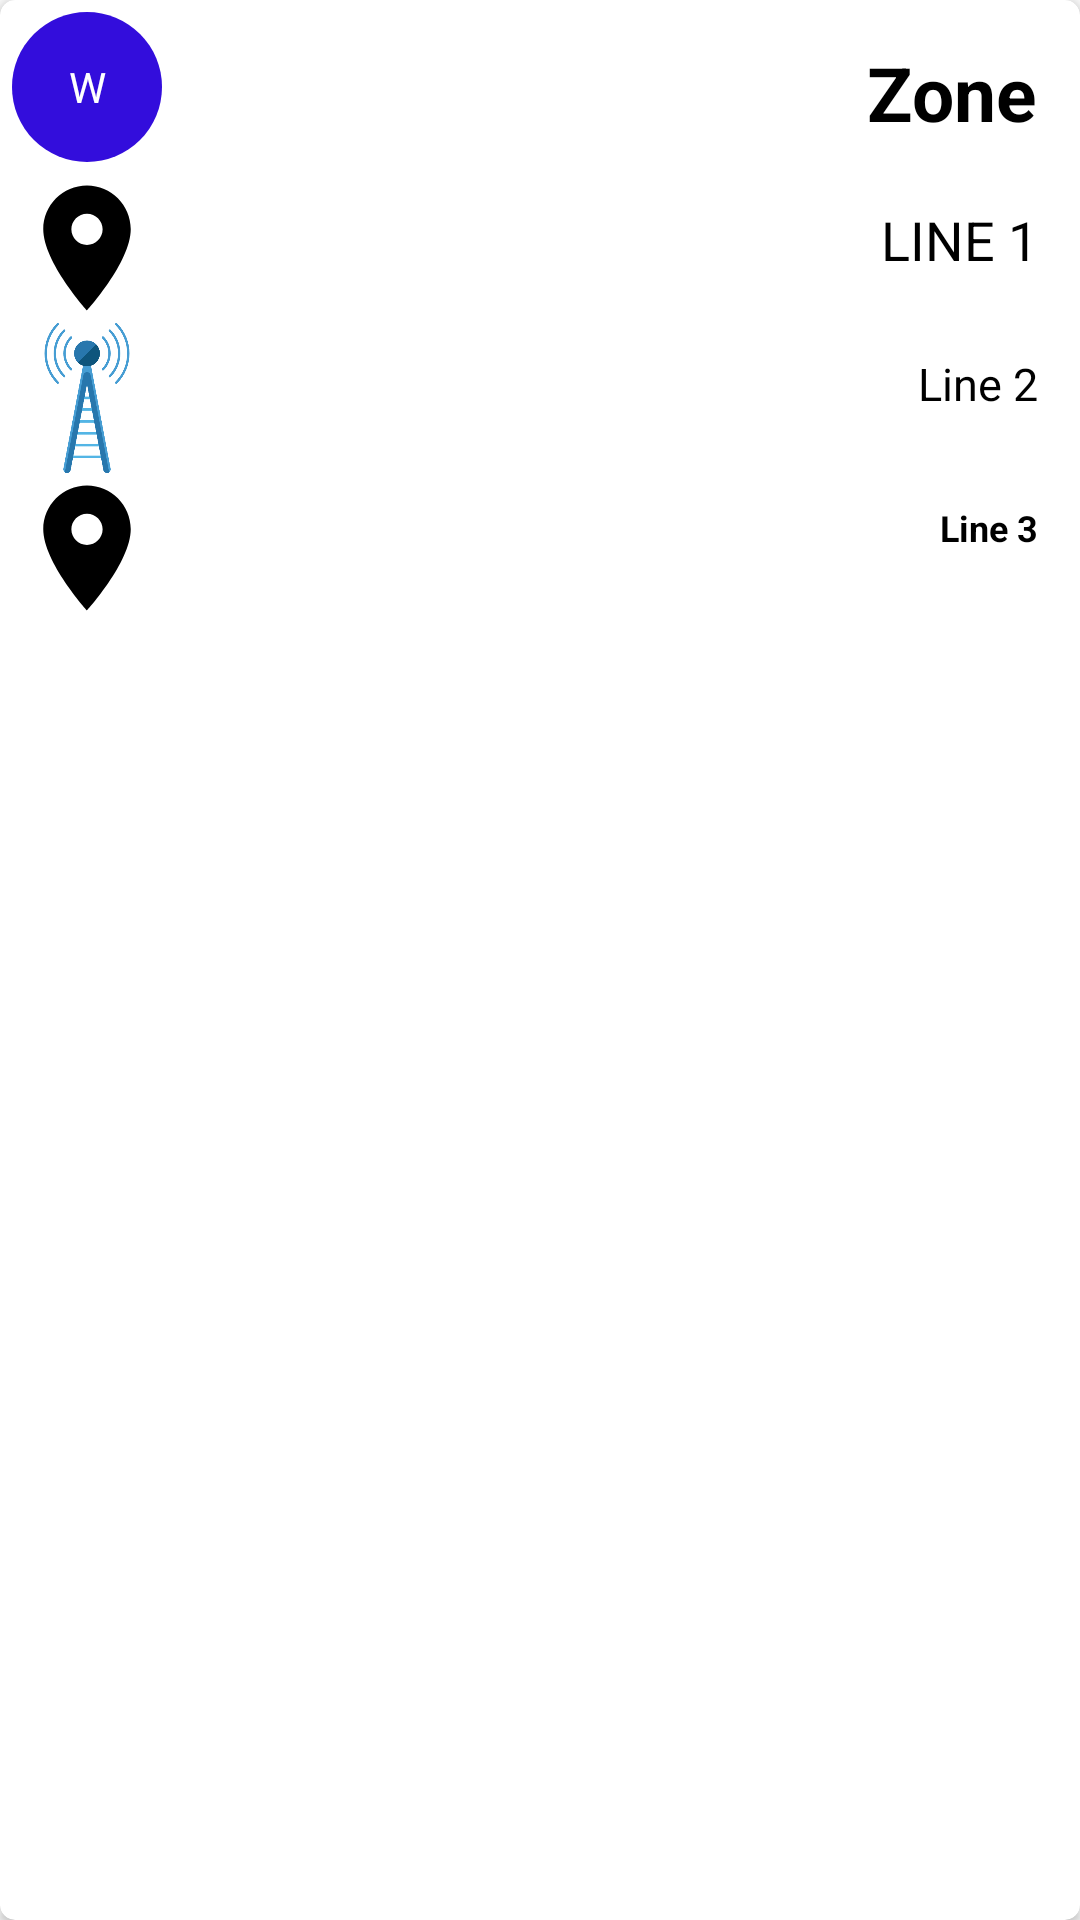

Point at icon controls on the screen. Image size 1080px x 1920px, points as [x,y].
location: [87,248], [87,548]
tower: [87,398]
